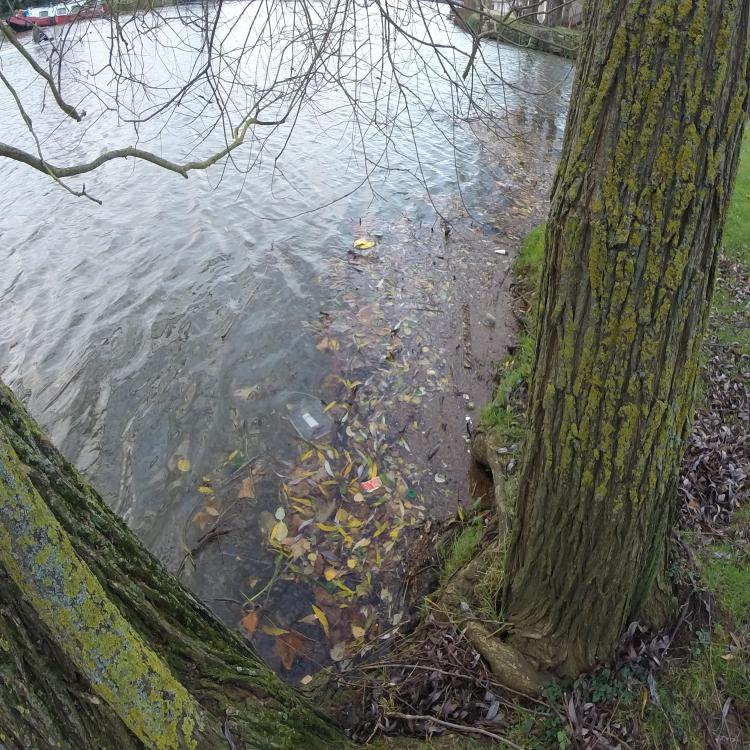Plastic bottle cap: (408, 490, 415, 498)
Unlabeled litter: (362, 476, 382, 493), (483, 312, 495, 327), (495, 250, 509, 255)
